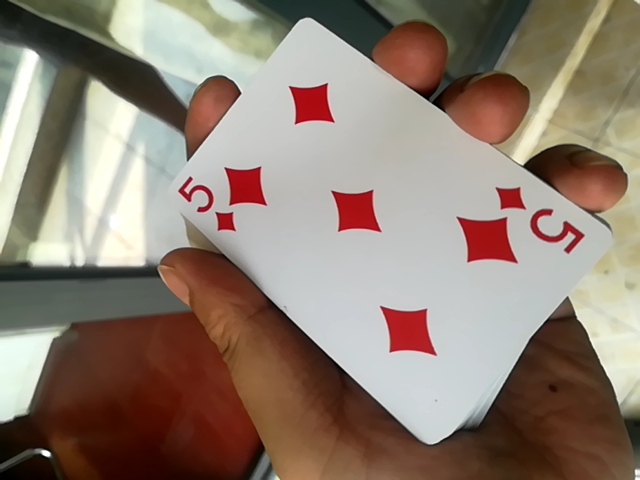fk 5: (144, 18, 601, 455)
